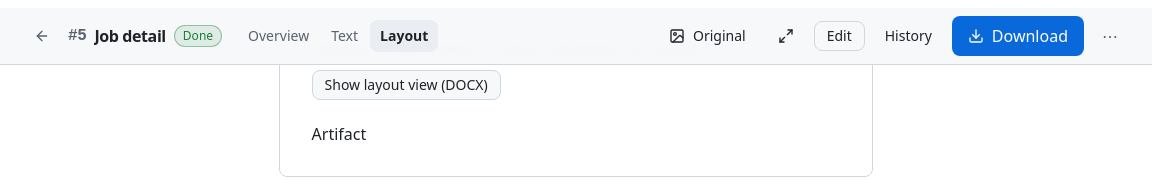
Test: no btn-edit-layout / layout-editor-textarea; btn-edit-doc opens UnifiedEditor
Click the button with test id "btn-edit-doc" at (839, 36), box [814, 21, 865, 51]
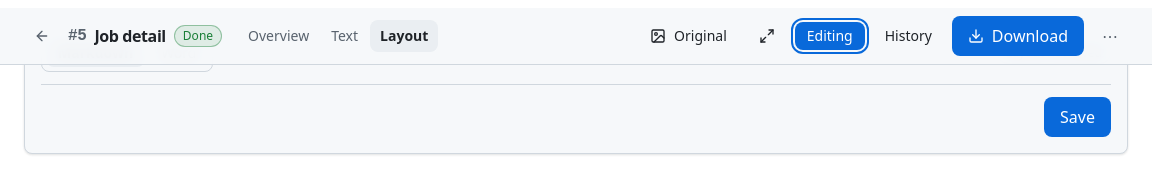
Expected: the element with test id "md-editor" is shown, [41, 84, 1111, 137]
